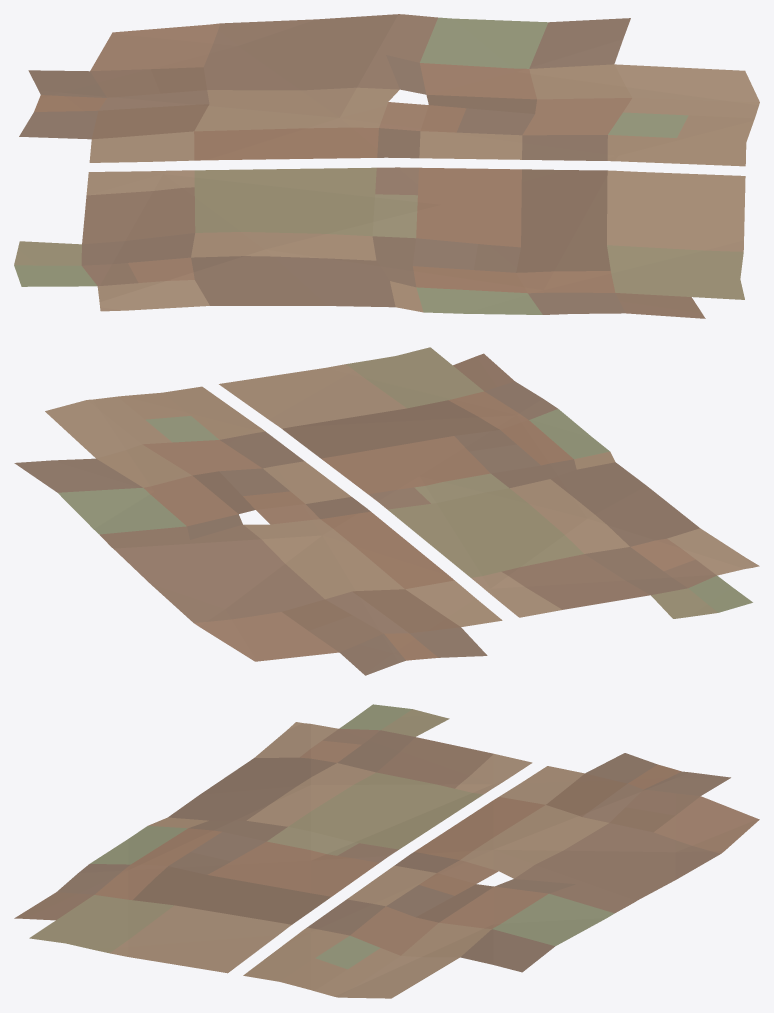
Rendered from farm_24_17_soil.glb.
3 renders of one model, top to bottom at view 1: azimuth 30°, elevation 25°; view 2: azimuth 150°, elevation 25°; view 3: azimuth 270°, elevation 25°, orthographic. The views are drawn at different scales.
Parts seen in each view (by area): view 1: geometry_0; view 2: geometry_0; view 3: geometry_0.
Boxes of the visible parts, bbox=[...] form: geometry_0: bbox=[14, 14, 759, 318]; geometry_0: bbox=[14, 347, 759, 675]; geometry_0: bbox=[14, 704, 759, 998].
Bounding box in the file's own units: 333 × 18.12 × 327.
